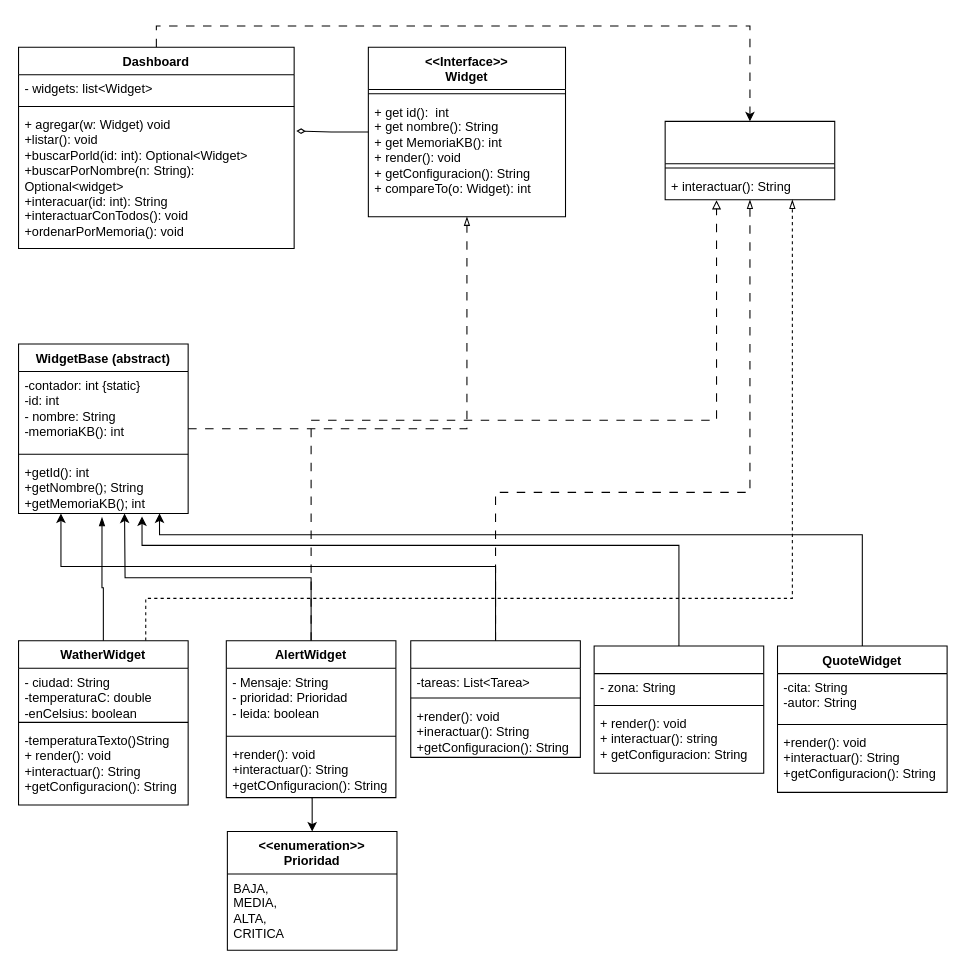
This 966x972 diagram has some shape labels left out. The box of each missing label's shape, as (x1, y1, x2, y2) in pixels:
<<interface>> Interactivo: (664, 120, 835, 200)
ClockWidget: (593, 645, 764, 773)
TaskWidget: (410, 640, 580, 757)
